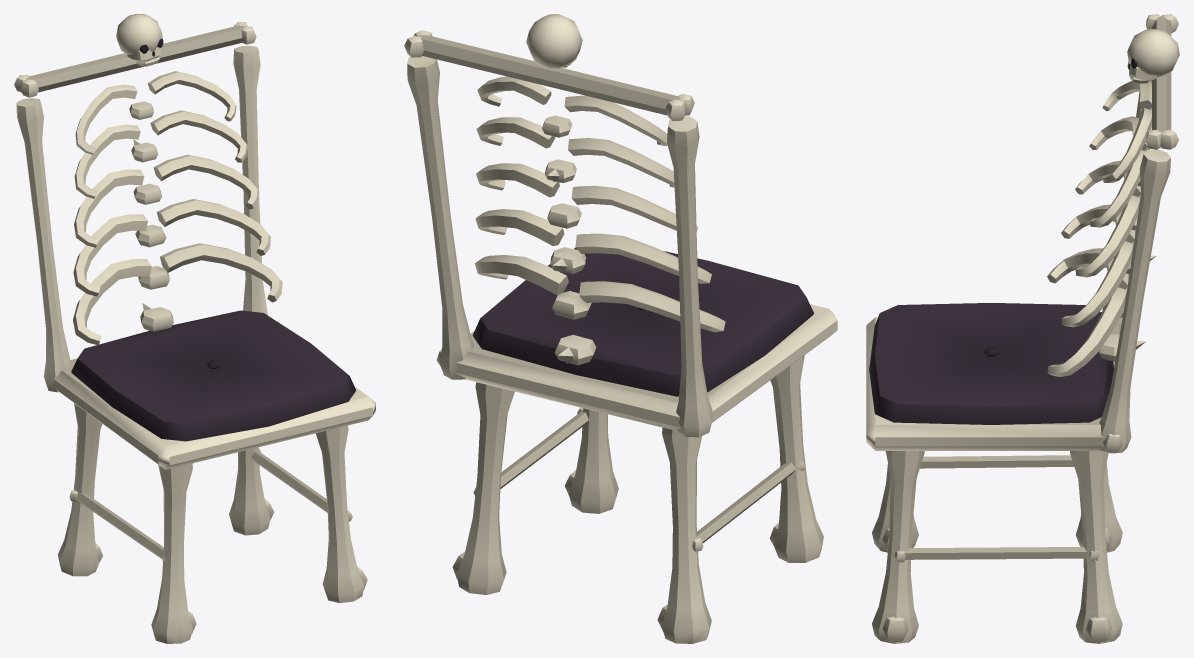
The model's file is chair_ribcage.glb.
3 renders of one model, left to right at view 1: azimuth 30°, elevation 25°; view 2: azimuth 150°, elevation 25°; view 3: azimuth 270°, elevation 25°, orthographic. The views are drawn at different scales.
Parts seen in each view (by area): view 1: chair_ribcage; view 2: chair_ribcage; view 3: chair_ribcage.
Boxes of the visible parts, box(x1,y1,x2,y2) form: chair_ribcage: box(14, 14, 375, 643); chair_ribcage: box(404, 14, 837, 643); chair_ribcage: box(866, 14, 1179, 643).
Bounding box in the file's own units: 0.5315 × 1.09 × 0.5499.
